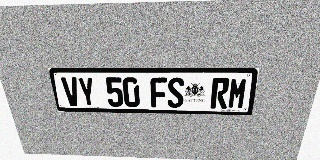0: (122, 77, 140, 107)
5: (105, 77, 124, 107)
F: (150, 77, 167, 108)
M: (227, 78, 249, 109)
R: (210, 78, 230, 109)
S: (167, 77, 184, 108)
V: (61, 77, 81, 106)
Y: (77, 77, 97, 107)
